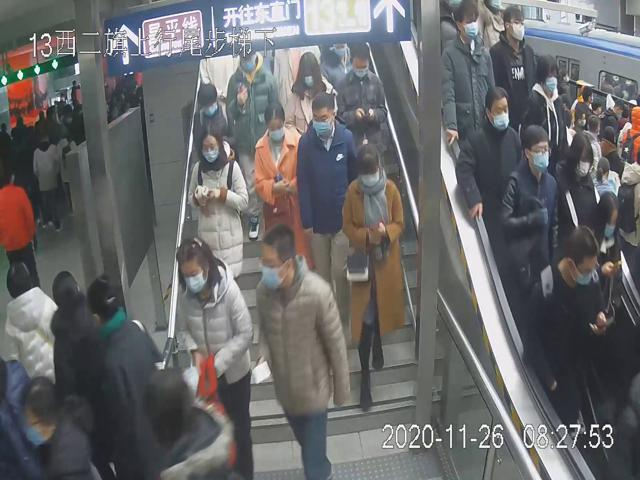person: (252, 226, 351, 480), (172, 232, 253, 480), (339, 142, 407, 411), (296, 88, 360, 331), (252, 99, 314, 289), (498, 124, 560, 308), (185, 125, 249, 301), (452, 81, 525, 222), (439, 3, 498, 158), (333, 41, 388, 154), (281, 49, 340, 142), (189, 82, 237, 163)
